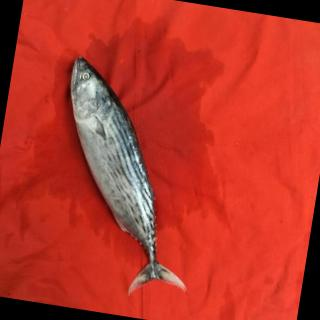Ikan: (25, 49, 225, 307)
